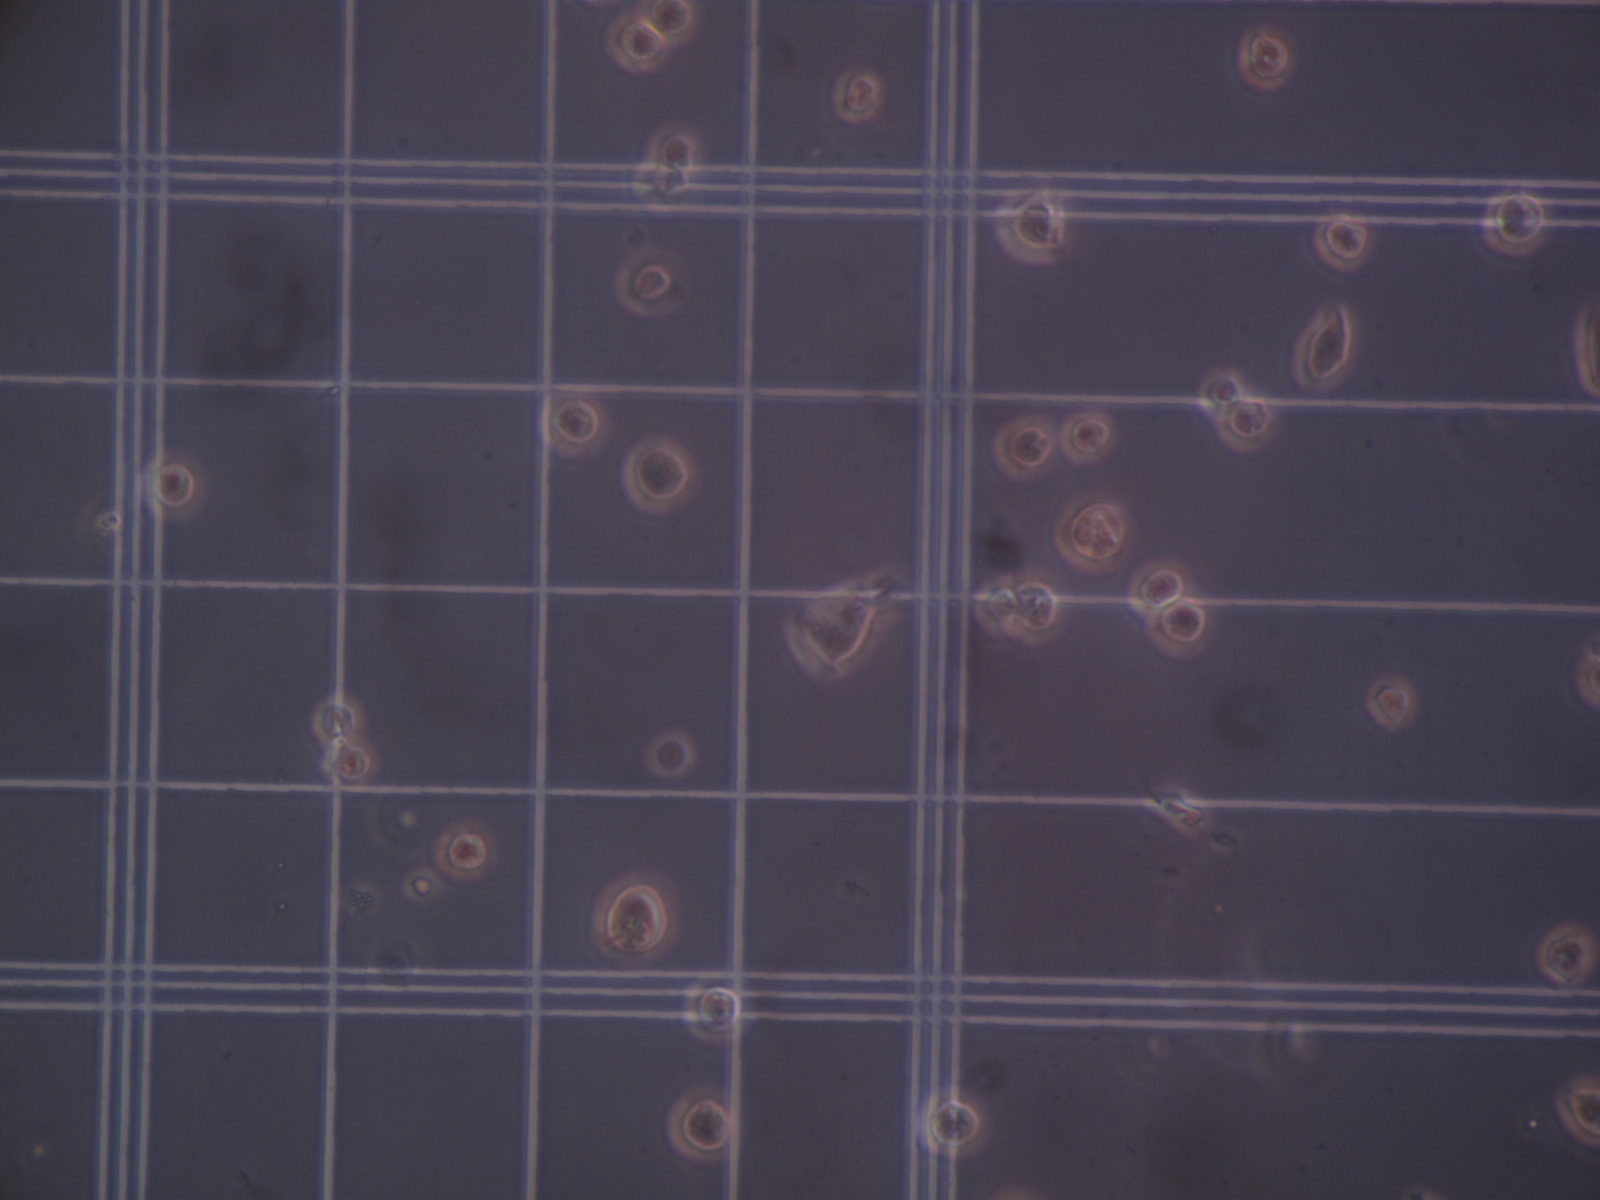hemo: (786, 586, 881, 682), (590, 863, 679, 961), (620, 429, 697, 516), (1054, 490, 1133, 574), (668, 1082, 745, 1165), (1293, 299, 1356, 393), (994, 187, 1070, 263), (615, 242, 690, 318), (913, 1083, 986, 1158), (140, 446, 210, 521), (538, 388, 609, 458), (1483, 184, 1550, 257), (991, 413, 1060, 483), (682, 972, 745, 1044), (602, 13, 671, 76), (432, 816, 499, 880), (1238, 23, 1296, 93), (1313, 211, 1377, 274), (1534, 920, 1596, 986), (1148, 601, 1214, 659), (1012, 568, 1061, 645), (627, 156, 693, 212), (1060, 405, 1117, 466), (1217, 397, 1279, 454), (323, 736, 382, 792), (1364, 673, 1420, 731), (1129, 562, 1191, 614), (648, 120, 704, 174), (1556, 1075, 1600, 1143), (635, 1, 699, 47), (976, 574, 1019, 639), (643, 727, 695, 780), (310, 695, 364, 745), (831, 68, 879, 121), (1196, 364, 1241, 418), (401, 867, 442, 905)
